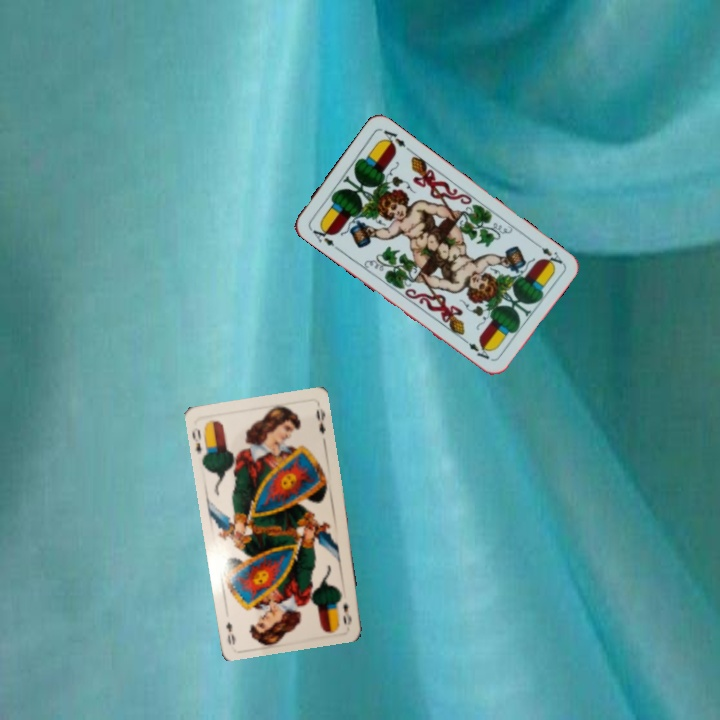EA: (306, 222, 341, 253), (530, 238, 565, 269)
EO: (191, 425, 212, 459), (339, 599, 355, 627)
